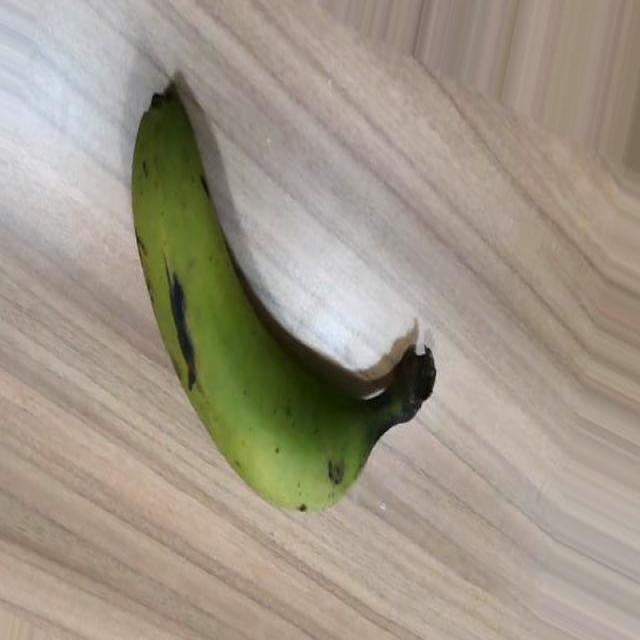Unripe: (130, 83, 439, 513)
